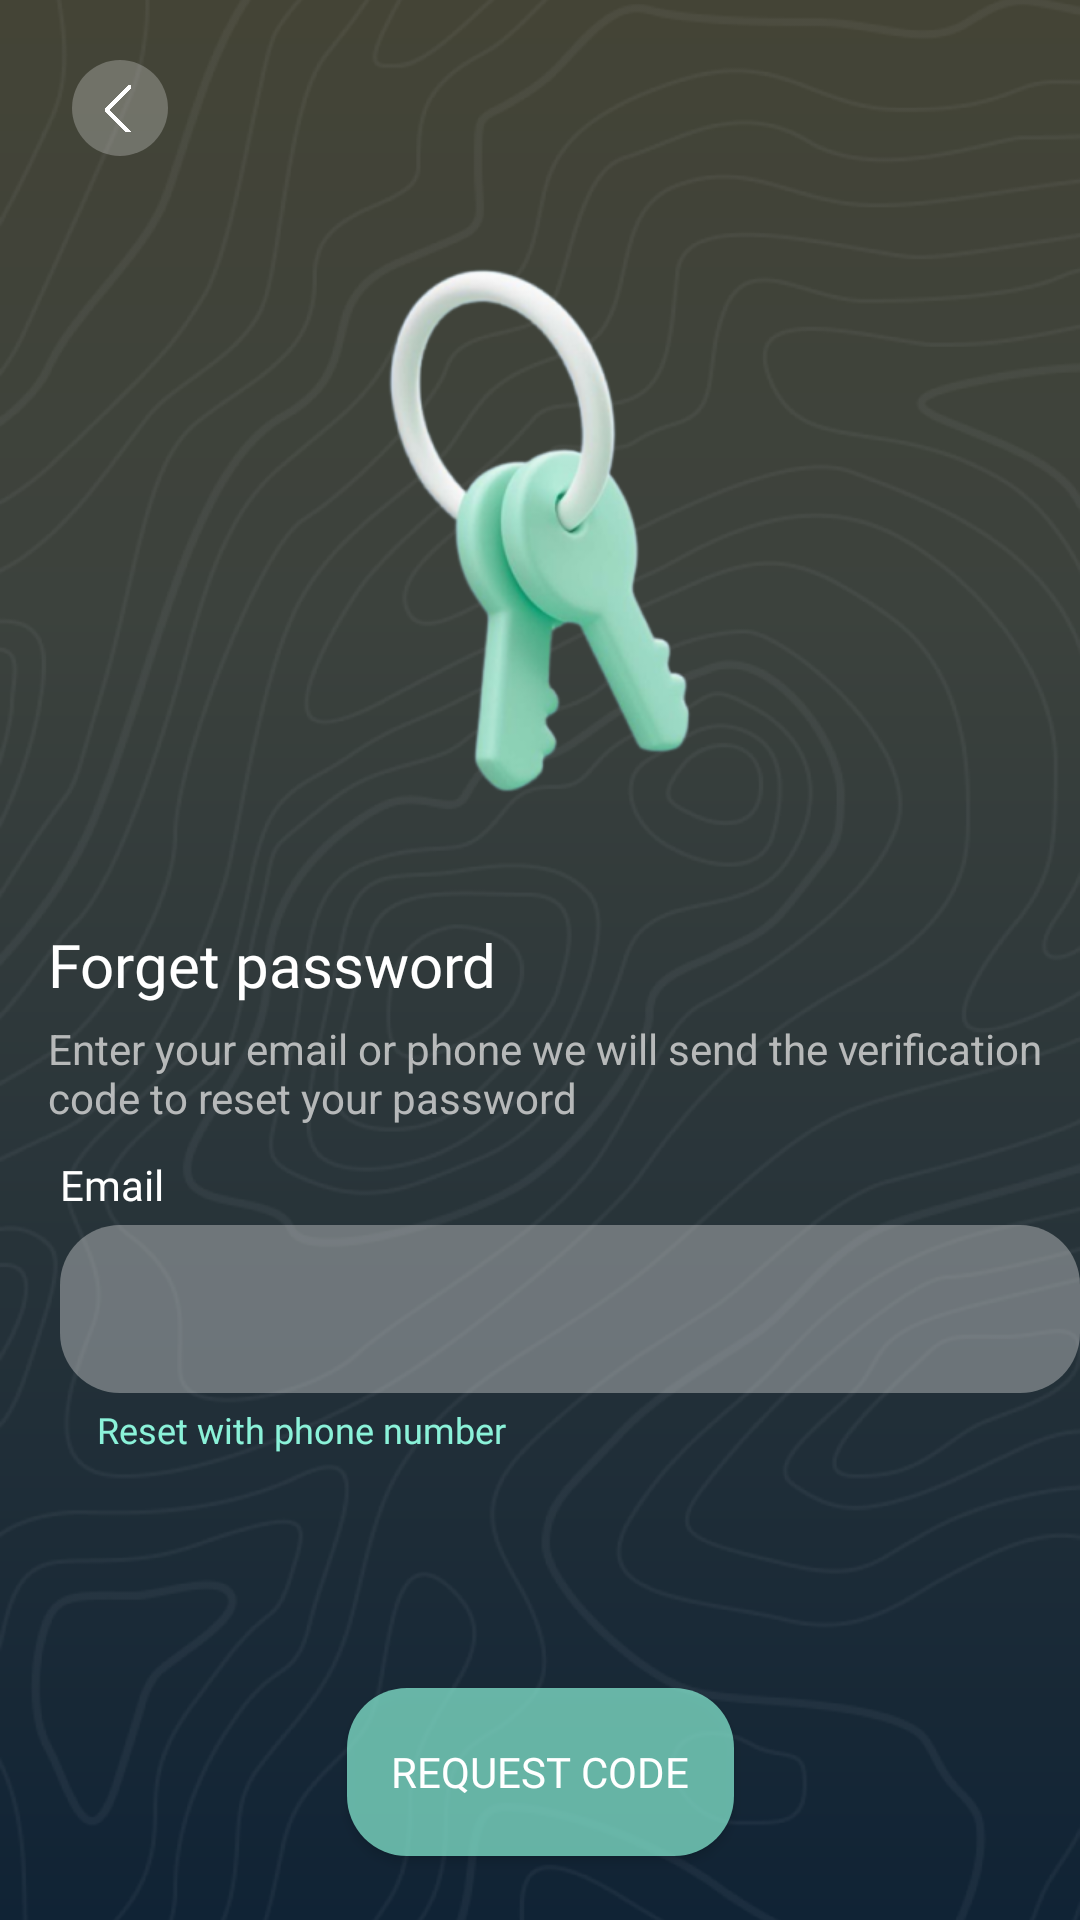

Icons on this 1080w x 1920h Android screen, each with the point to tap as point (x, y):
arrow back: point (118, 108)
